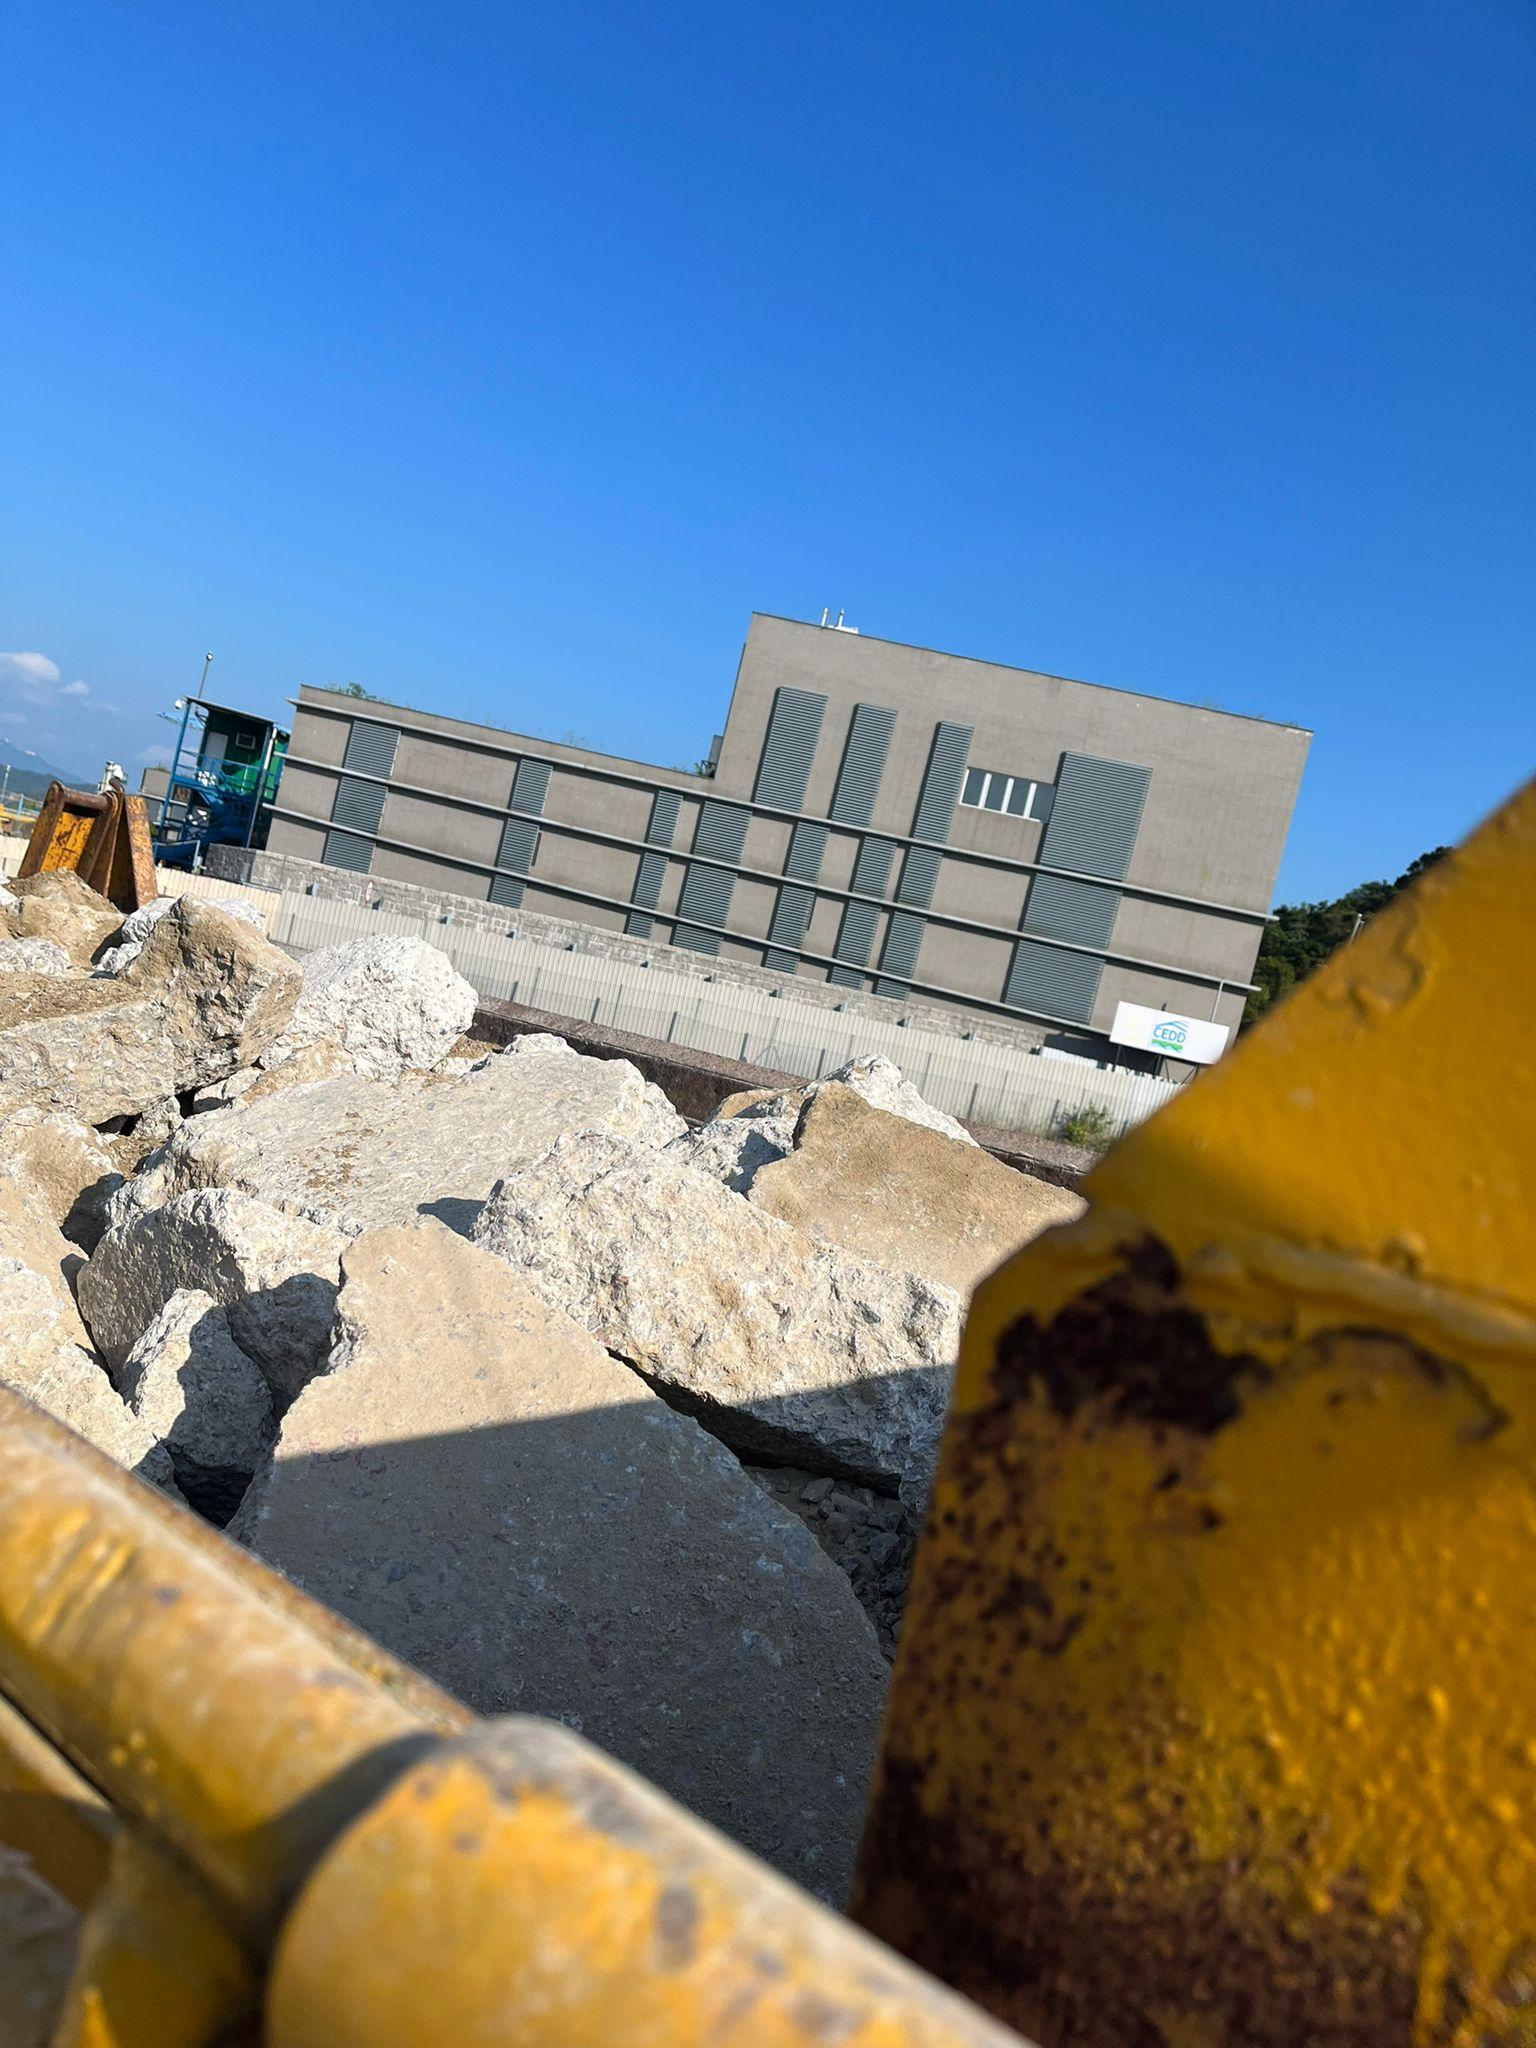dry: (13, 893, 1060, 1877)
